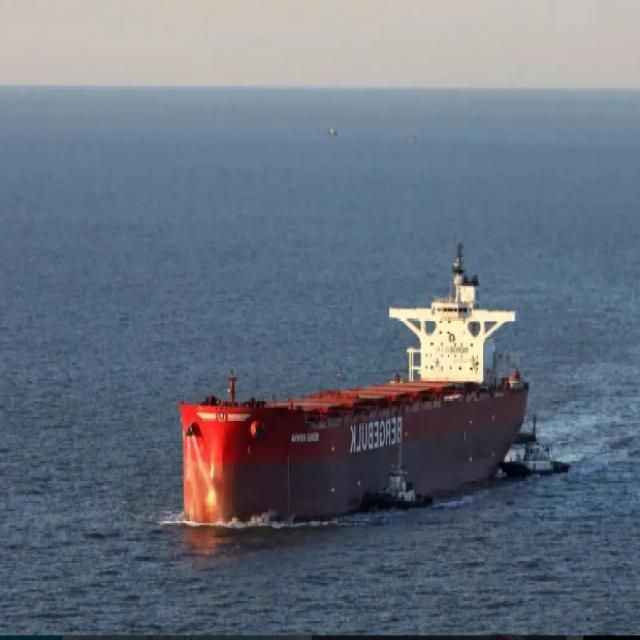buoy: (174, 235, 537, 527)
